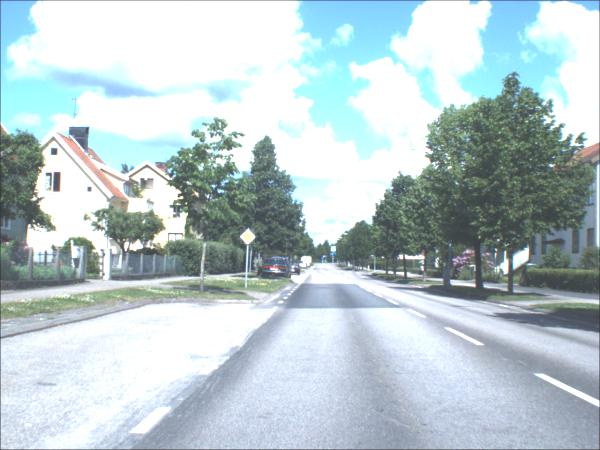PASS_RIGHT_SIDE: (331, 252, 336, 258), (322, 259, 324, 261)
PEDESTRIAN_CROSSING: (331, 247, 337, 253), (323, 257, 325, 259)
PRIORITY_ROAD: (240, 230, 256, 246)
